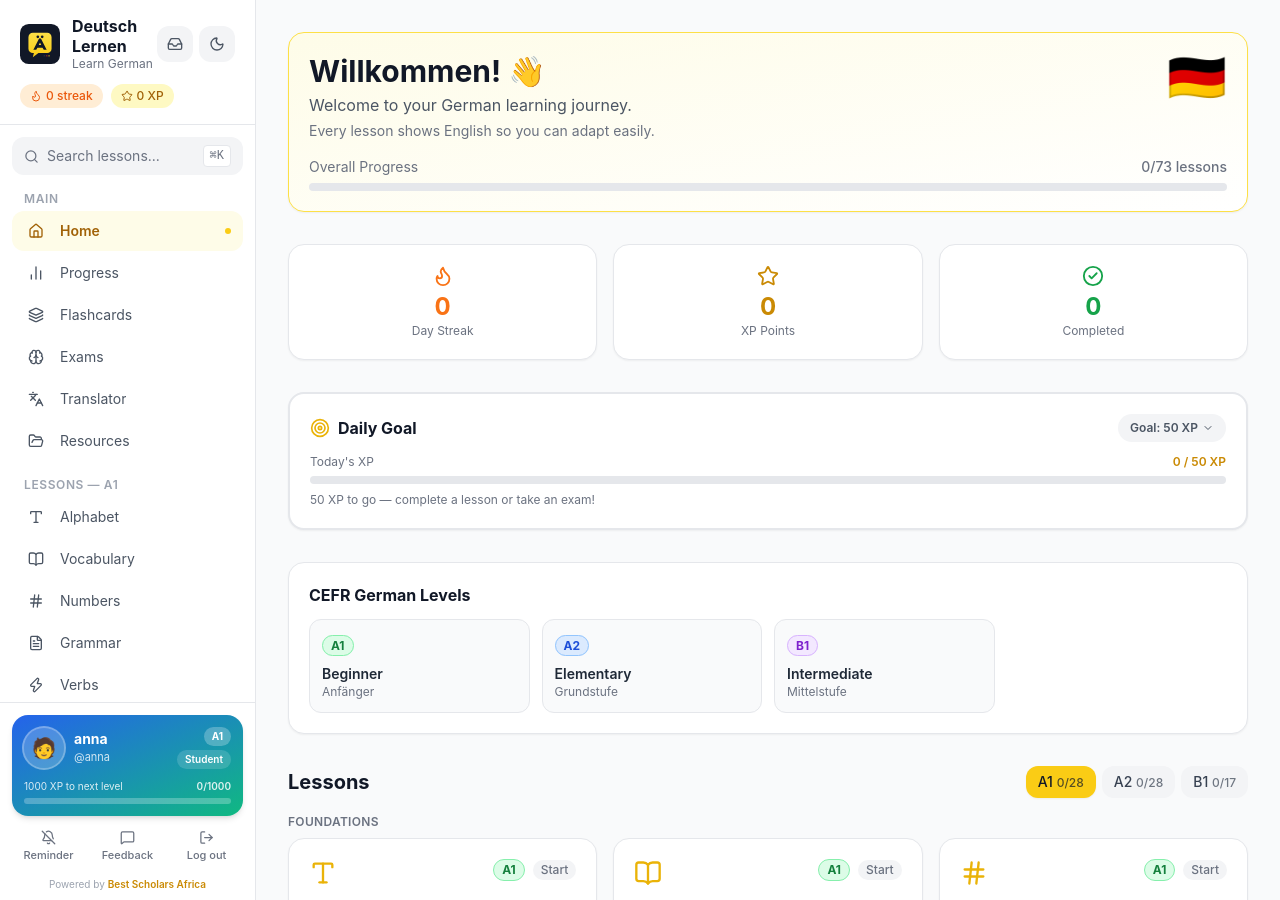
Test: student messages › empty inbox
Click the button named "Messages".
click(175, 44)  # box [157,26,193,62]
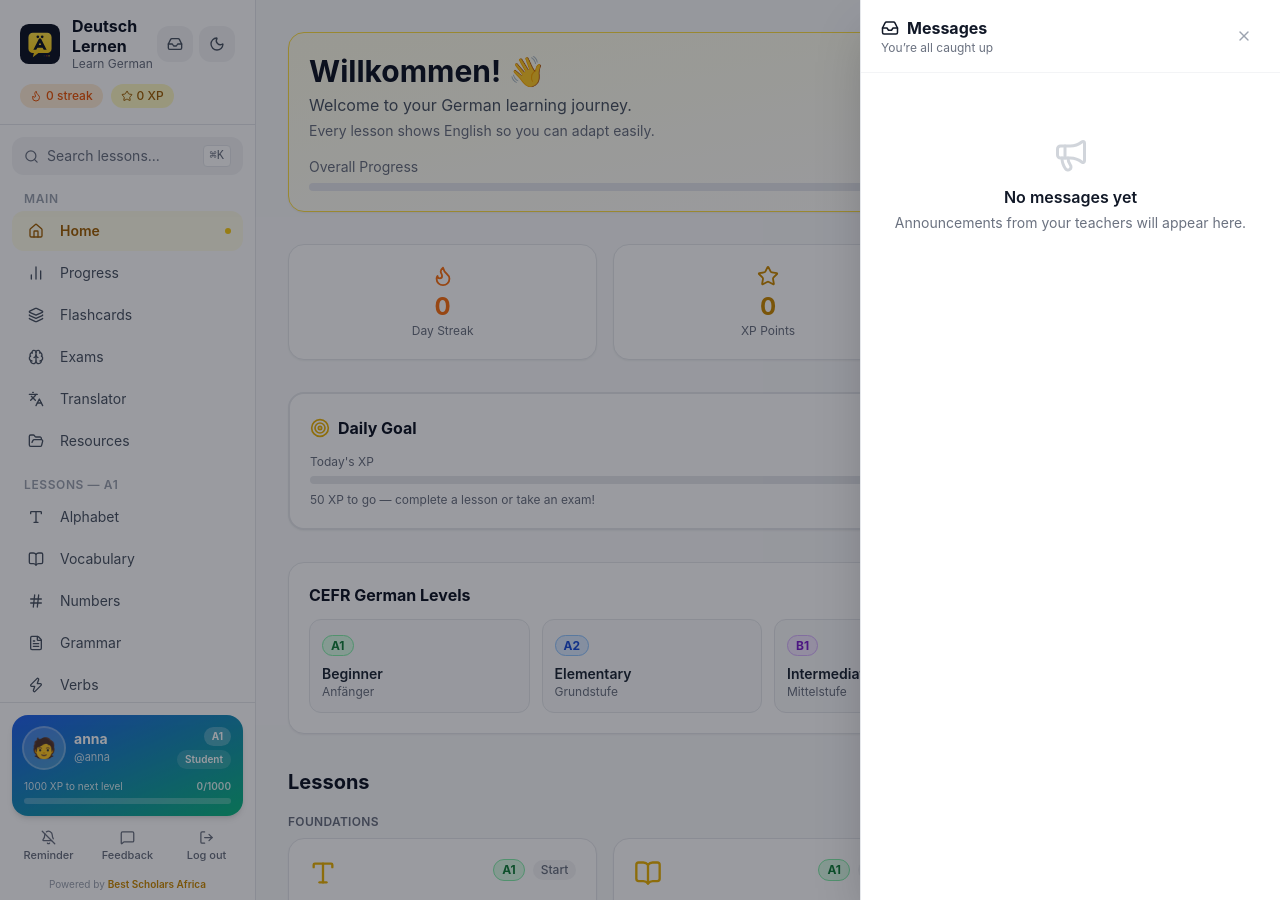
Check: the text "No messages yet" is shown, box [1004,187,1137,207]
